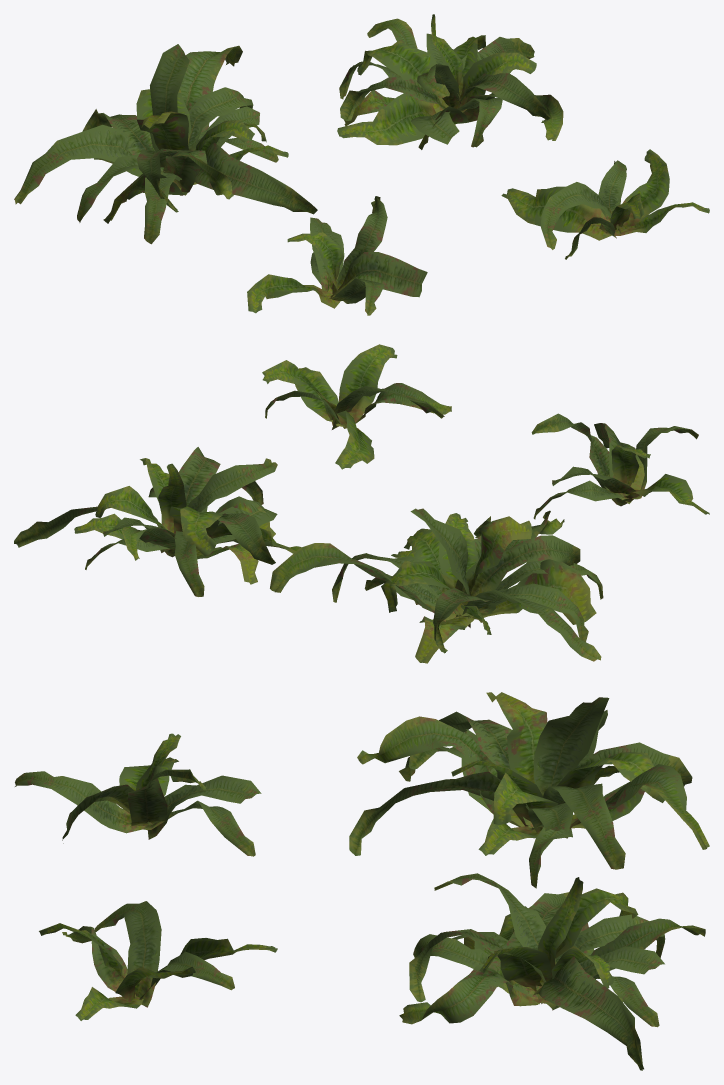
The model's file is fern_02.glb.
3 renders of one model, top to bottom at view 1: azimuth 30°, elevation 25°; view 2: azimuth 150°, elevation 25°; view 3: azimuth 270°, elevation 25°, orthographic. The views are drawn at different scales.
Parts seen in each view (by area): view 1: fern_02_b, fern_02_c, fern_02_d, fern_02_a; view 2: fern_02_b, fern_02_c, fern_02_d, fern_02_a; view 3: fern_02_b, fern_02_c, fern_02_a, fern_02_d.
Boxes of the visible parts, x1=… form: fern_02_b: x1=14, y1=44, x2=317, y2=244; fern_02_c: x1=337, y1=14, x2=563, y2=149; fern_02_d: x1=501, y1=149, x2=709, y2=259; fern_02_a: x1=247, y1=196, x2=427, y2=315; fern_02_b: x1=270, y1=508, x2=603, y2=663; fern_02_c: x1=14, y1=447, x2=301, y2=596; fern_02_d: x1=262, y1=344, x2=451, y2=469; fern_02_a: x1=531, y1=413, x2=709, y2=519; fern_02_b: x1=349, y1=692, x2=709, y2=888; fern_02_c: x1=399, y1=873, x2=705, y2=1070; fern_02_a: x1=15, y1=733, x2=261, y2=856; fern_02_d: x1=39, y1=901, x2=277, y2=1020.
Bounding box in the file's own units: 1.97 × 0.4277 × 1.72.
1 material, 1 textured.
